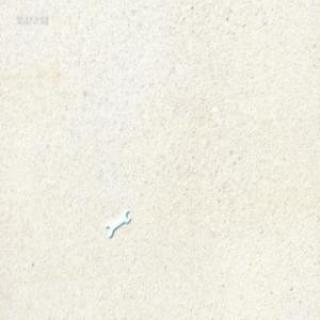Wrenchtrack_idkeyframe: (105, 205, 130, 235)
